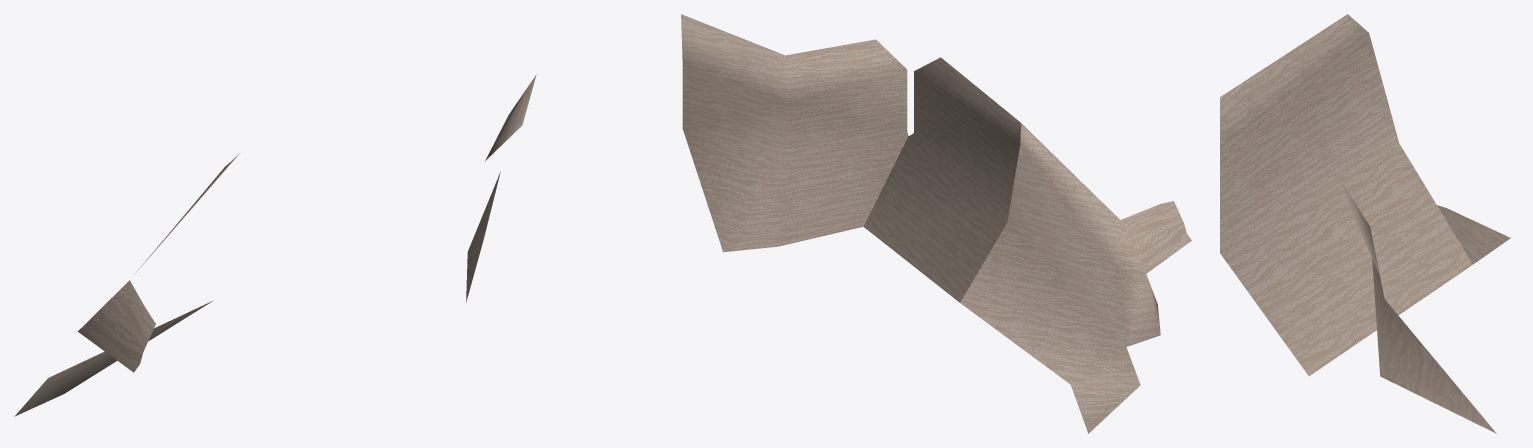
Rendered from kd_connection_town-ground_surface_4_0.glb.
3 renders of one model, left to right at view 1: azimuth 30°, elevation 25°; view 2: azimuth 150°, elevation 25°; view 3: azimuth 270°, elevation 25°, orthographic. The views are drawn at different scales.
Visible parts, largest first — view 1: kd_connection_town-ground_surface_4_0; view 2: kd_connection_town-ground_surface_4_0; view 3: kd_connection_town-ground_surface_4_0.
Boxes of the visible parts, x1,y1,x2,y2 form: kd_connection_town-ground_surface_4_0: (14, 74, 536, 416); kd_connection_town-ground_surface_4_0: (681, 14, 1191, 433); kd_connection_town-ground_surface_4_0: (1220, 14, 1510, 433).
Size of the model in its own units: 93.23 by 48.82 by 32.36.
1 material, 1 textured.
